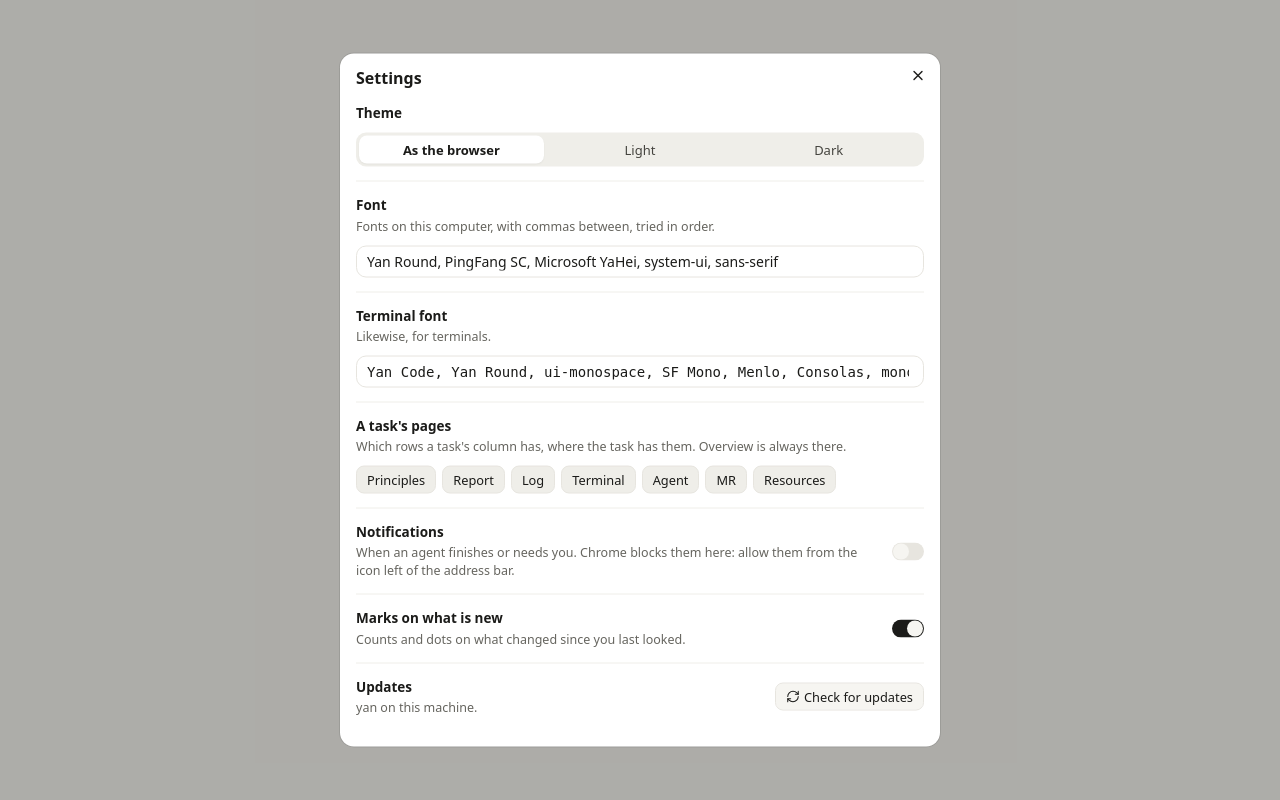
the fonts in the settings › take names typed where the browser lists none, the terminal's apart from the page's, and go back to yan's own list when emptied
The image size is (1280, 800).
Replace the text in the dropdown named "Terminal font" with "Menlo" at point(636, 371), box [357, 355, 915, 387]
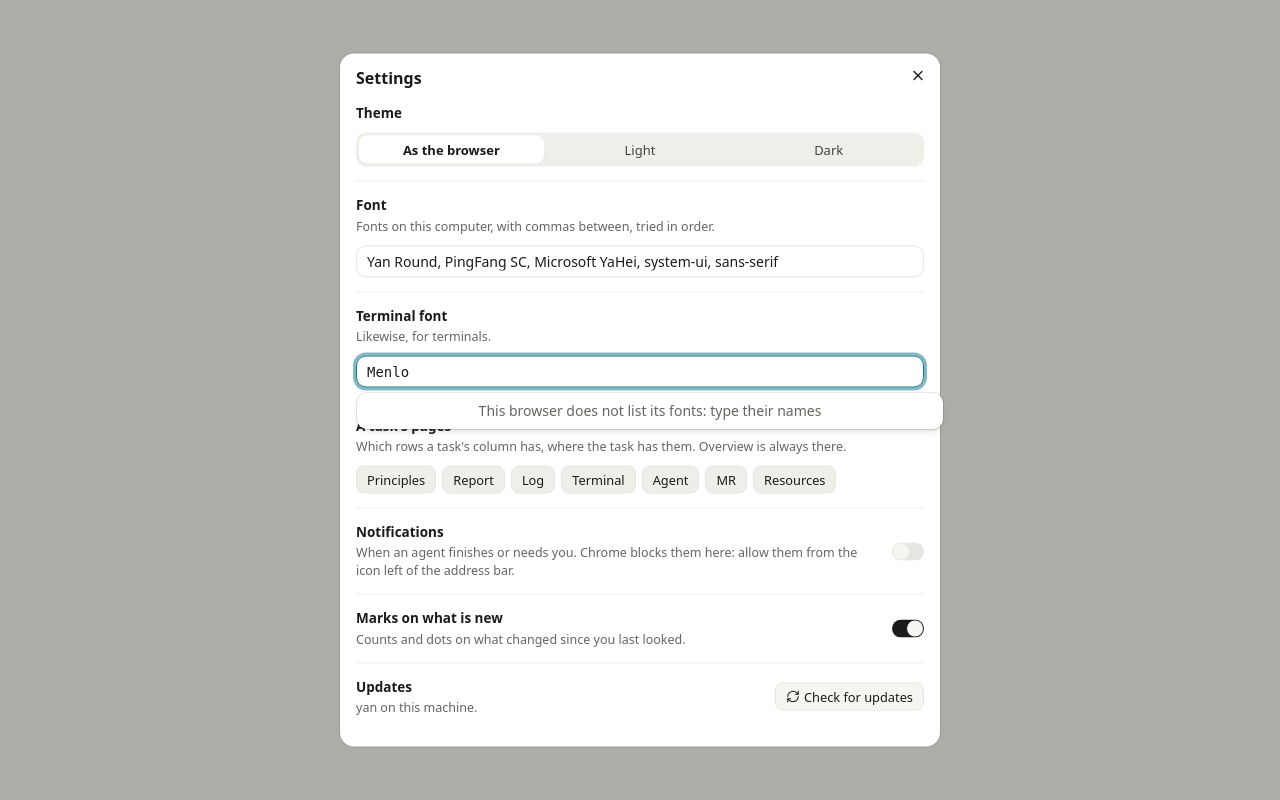
Press Enter in the dropdown named "Terminal font", box [357, 355, 915, 387]
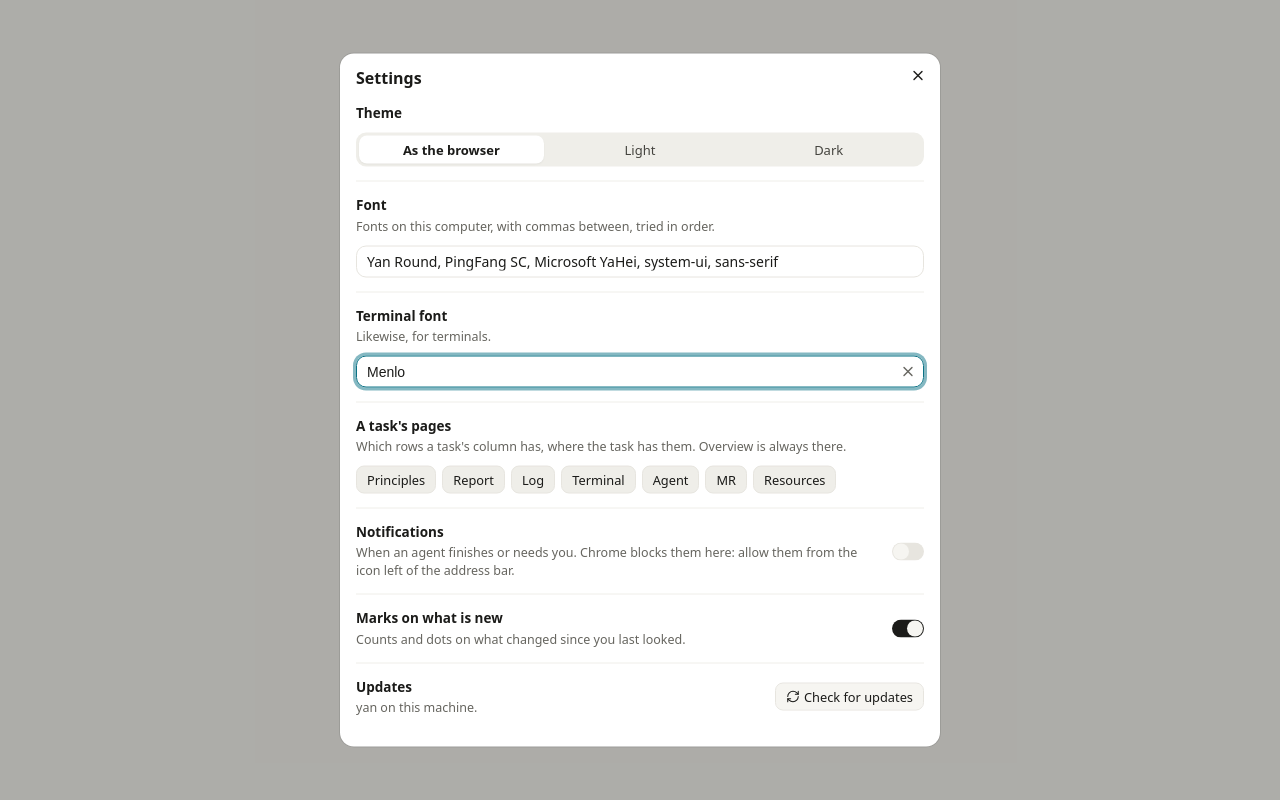
Clear the dropdown named "Terminal font" at point(626, 371), box [357, 355, 896, 387]
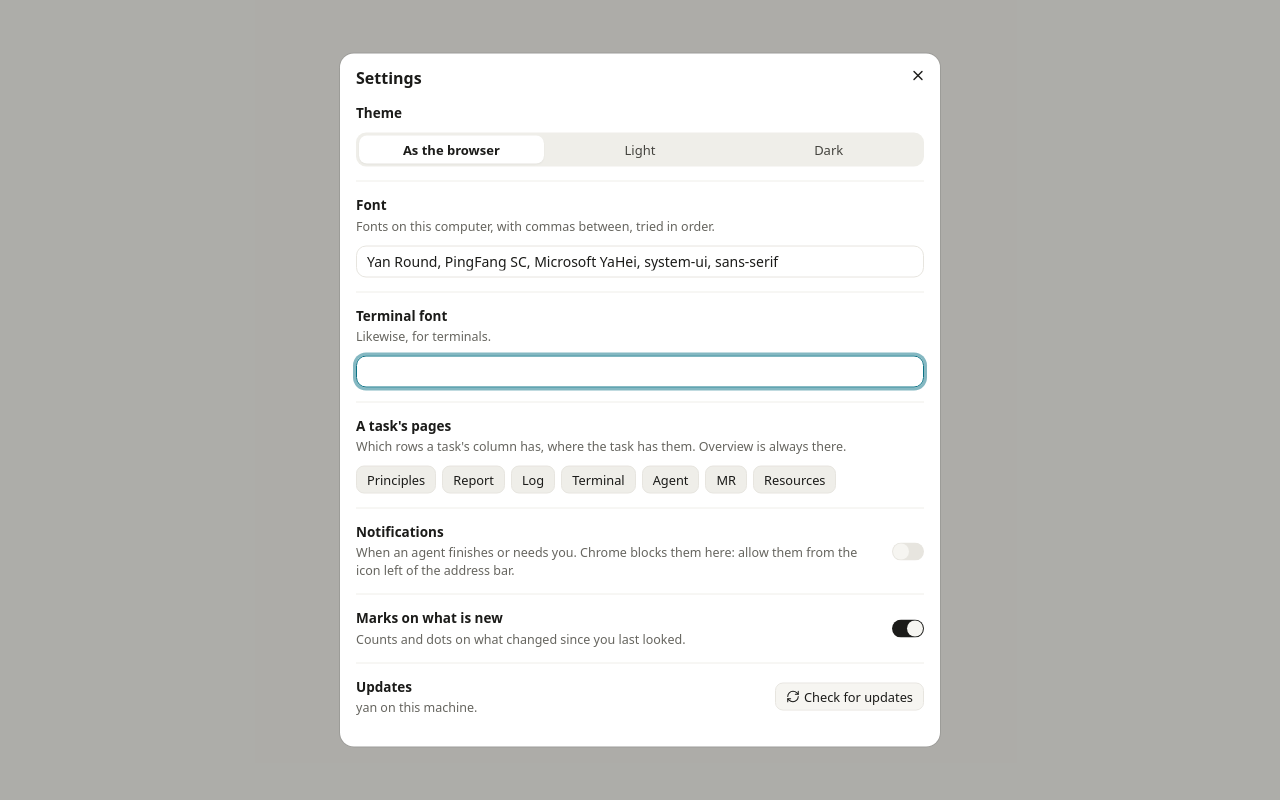
Click the heading "Settings" at point(389, 78), box [356, 66, 422, 88]
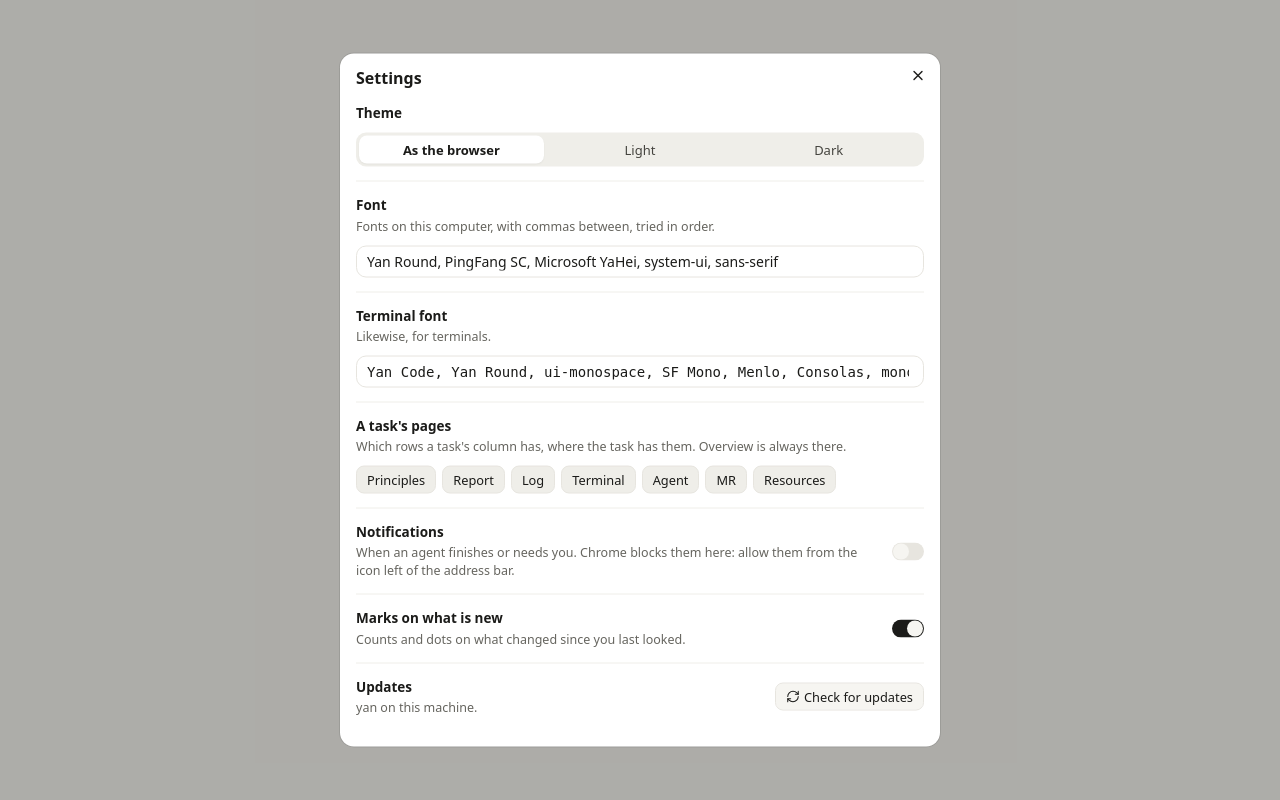
Expected: the dropdown named "Terminal font" holds "Yan Code, Yan Round, ui-monospace, SF Mono, Menlo, Consolas, monospace", [357, 355, 915, 387]
